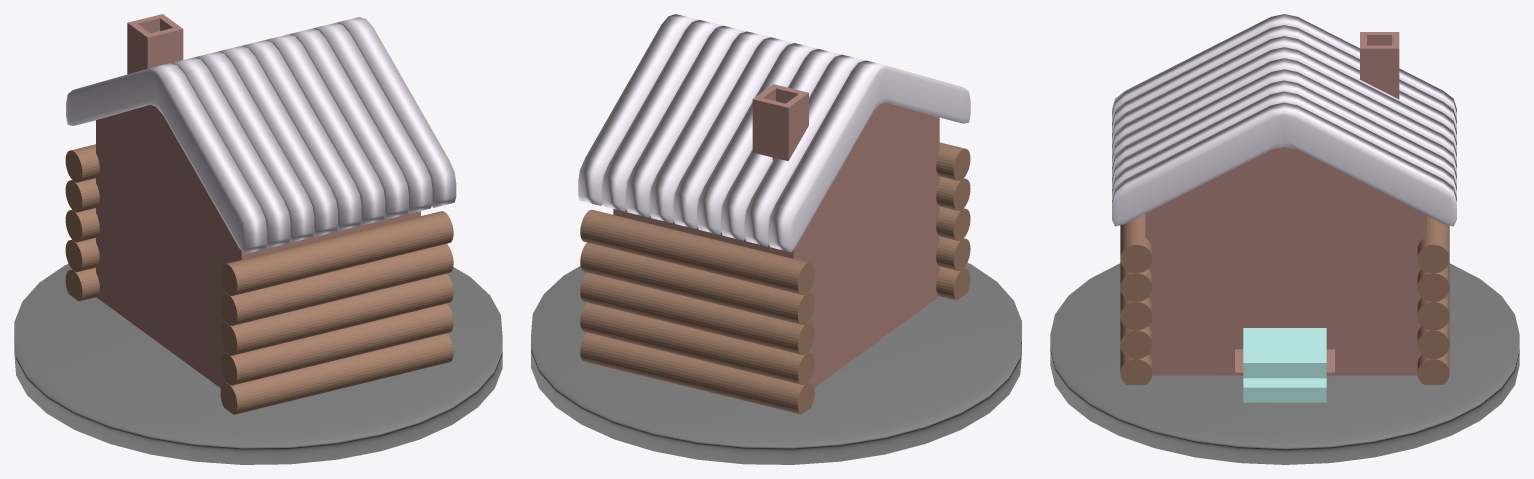
File: house-roof.glb
3 views of the same model, side by side, from view 1: azimuth 30°, elevation 25°; view 2: azimuth 150°, elevation 25°; view 3: azimuth 270°, elevation 25° (orthographic). The views are drawn at different scales.
Parts seen in each view (by area): view 1: roof, Cylinder.001, Cylinder, Cube, Cube.001; view 2: roof, Cylinder.001, Cylinder, Cube, Cube.001; view 3: Cube, roof, Cylinder.001, Cylinder, Cube.003, Cube.001, Cube.002.
Part boxes in pixels (x1,y1,x2,y2): roof: [66, 17, 456, 253]; Cylinder.001: [14, 264, 502, 464]; Cylinder: [65, 144, 453, 414]; Cube: [96, 105, 420, 388]; Cube.001: [127, 14, 183, 74]; roof: [578, 14, 970, 252]; Cylinder.001: [531, 262, 1021, 464]; Cylinder: [580, 142, 970, 414]; Cube: [613, 102, 939, 387]; Cube.001: [752, 84, 808, 161]; Cube: [1145, 147, 1424, 375]; roof: [1112, 14, 1456, 226]; Cylinder.001: [1050, 263, 1519, 464]; Cylinder: [1120, 214, 1449, 384]; Cube.003: [1243, 328, 1326, 378]; Cube.001: [1360, 32, 1399, 99]; Cube.002: [1243, 378, 1326, 402].
Size of the model in its own units: 4.72 by 3.38 by 4.72.
